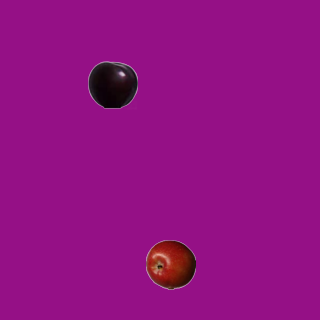Apple Braeburn: (145, 239, 195, 289)
Cherry Wax Black: (87, 59, 137, 109)
